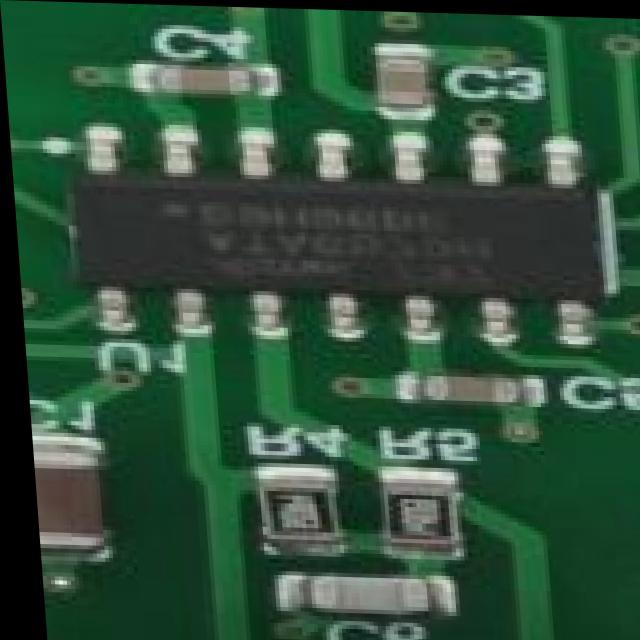IC: (64, 145, 610, 330)
capacitor: (26, 440, 92, 553), (281, 572, 447, 614), (370, 47, 438, 106), (401, 371, 533, 400), (151, 61, 269, 90)
resistor: (247, 469, 333, 539), (379, 468, 445, 550)
